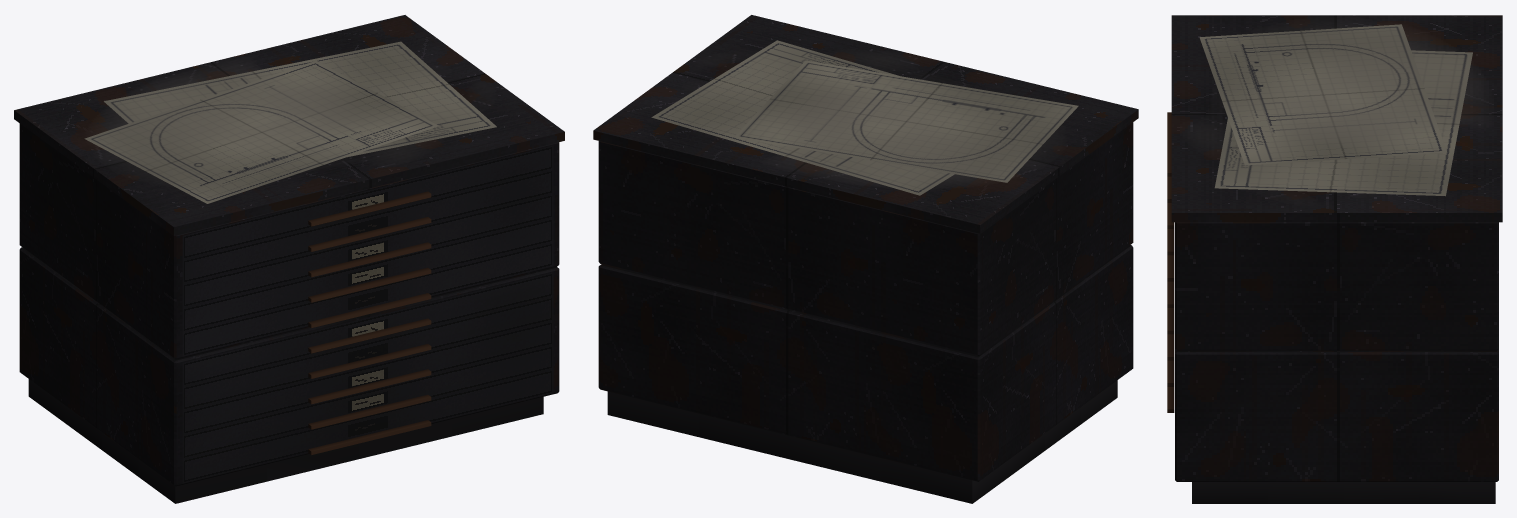
Rendered from plan_chest.glb.
The picture shows the model from 3 angles, left to right: view 1: azimuth 30°, elevation 25°; view 2: azimuth 150°, elevation 25°; view 3: azimuth 270°, elevation 25°; orthographic projection. The views are drawn at different scales.
Visible parts, largest first — view 1: panels, body, decals; view 2: body, panels, decals; view 3: body, panels, decals.
Boxes of the visible parts, left/top/right/bottom form: panels: left=84, top=41, right=553, bottom=483; body: left=14, top=15, right=564, bottom=503; decals: left=105, top=71, right=369, bottom=166; body: left=593, top=15, right=1138, bottom=503; panels: left=651, top=40, right=1078, bottom=195; decals: left=777, top=88, right=1036, bottom=182; body: left=1167, top=15, right=1502, bottom=503; panels: left=1199, top=24, right=1472, bottom=196; decals: left=1276, top=29, right=1476, bottom=145.
Size of what is drawn, in the model's own units: 1.37 by 0.969 by 0.982.
Materials: 8 (6 with a texture image).
